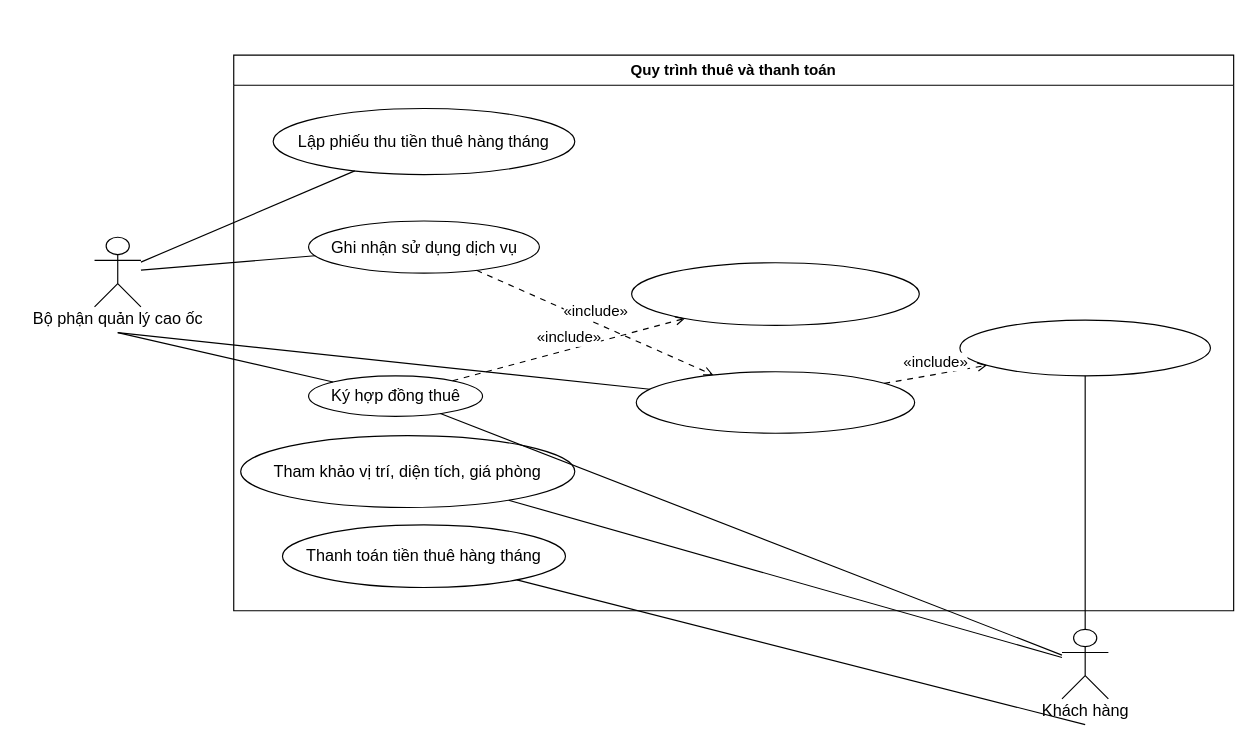
This 1254x746 diagram has some shape labels left out. The shapes that lost their labels are listed below. From the top down, each one's centre as x and y in pixels, then its label:
At point 774,293: "Thanh toán tiền thuê 6 tháng đầu".
At point 1084,347: "Thanh toán hóa đơn dịch vụ".
At point 775,402: "Lập hóa đơn dịch vụ cuối tháng".
